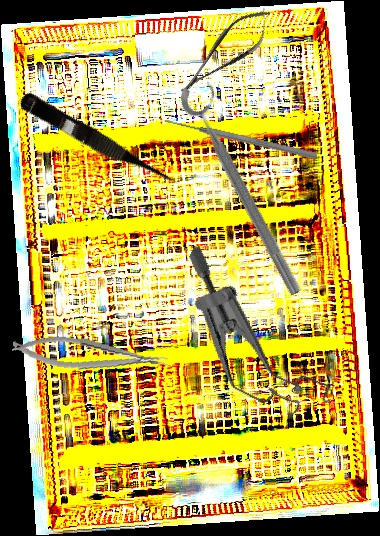Fixation Ring: (175, 76, 319, 300)
Micro Scissor: (14, 89, 184, 197), (169, 0, 282, 104)
Needle Holder: (10, 328, 170, 383)
Pusher: (161, 115, 319, 161)
Speculum: (142, 242, 367, 435)
